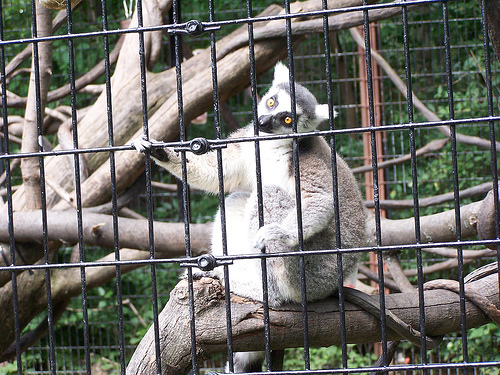cat: (135, 61, 368, 372)
